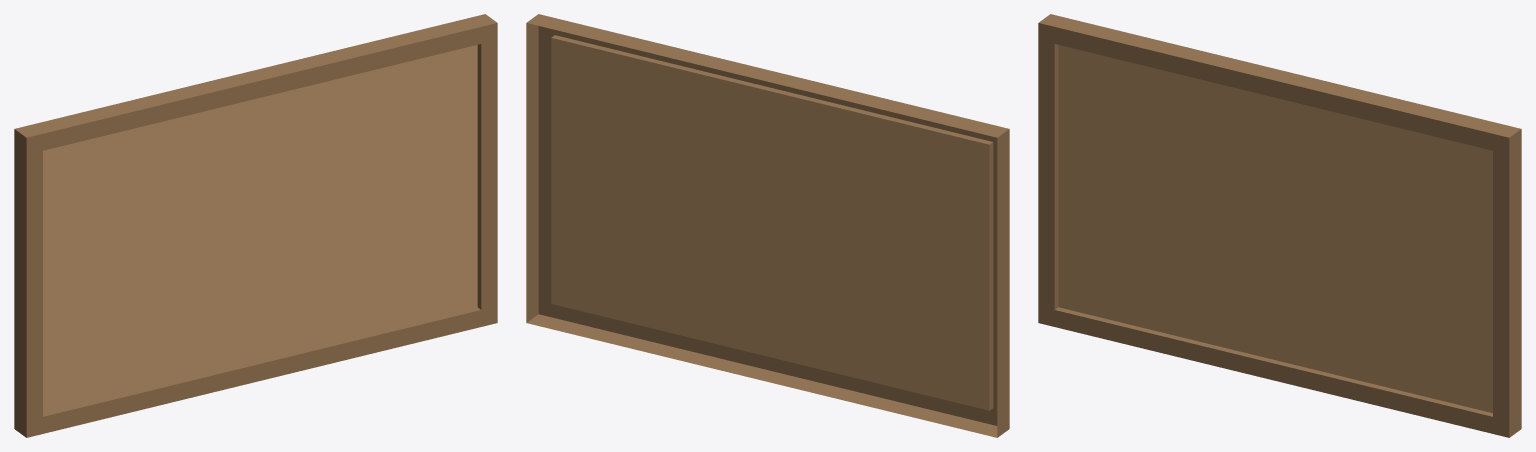
Rendered from Pinboard.fbx.
The picture shows the model from 3 angles, left to right: view 1: azimuth 30°, elevation 25°; view 2: azimuth 150°, elevation 25°; view 3: azimuth 330°, elevation 25°; orthographic projection.
Parts seen in each view (by area): view 1: pCube1; view 2: pCube1; view 3: pCube1.
Part boxes in pixels (x1,y1,x2,y2): pCube1: (14,14,497,437); pCube1: (526,14,1009,437); pCube1: (1038,14,1521,437).
Size of the model in its own units: 49.06 by 29.88 by 2.19.
